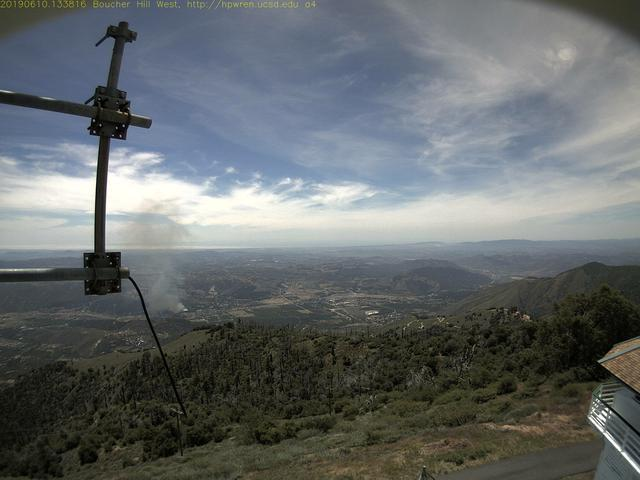smoke: (121, 202, 194, 313)
